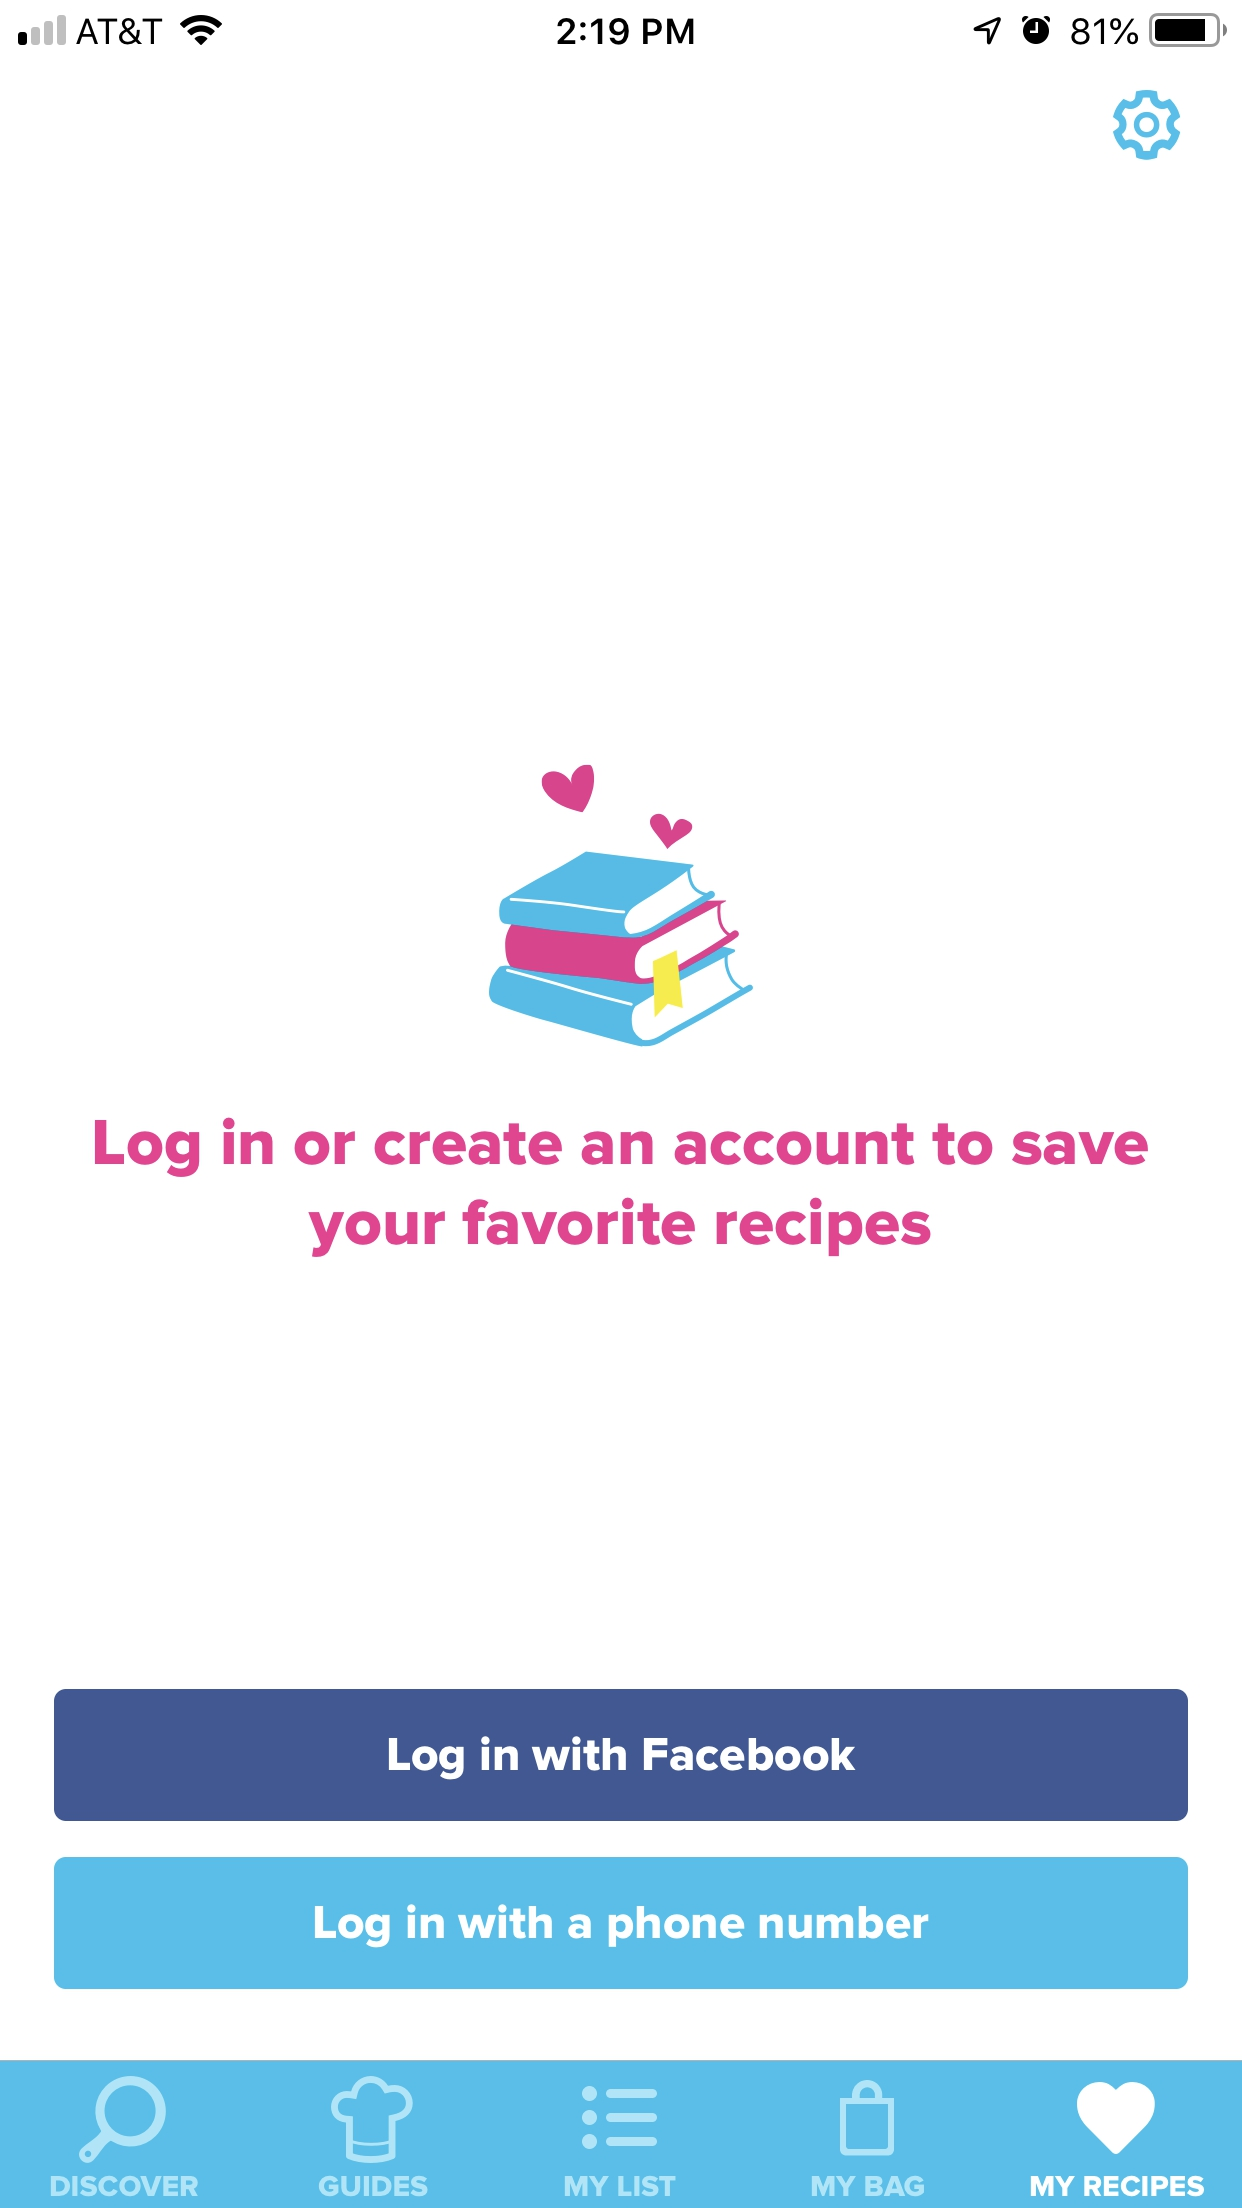Icon: (79, 2075, 168, 2164), (1077, 2081, 1156, 2155), (581, 2085, 658, 2150), (1112, 89, 1181, 161), (839, 2079, 895, 2156)
Image: (488, 764, 755, 1048), (331, 2075, 414, 2164)
Text: (96, 1118, 1149, 1259), (1030, 2175, 1206, 2197), (52, 2175, 197, 2196), (811, 2175, 925, 2197), (564, 2175, 676, 2197), (318, 2175, 429, 2197)
TextButton: (55, 1858, 1189, 1990), (55, 1689, 1189, 1821)
UpperTaskBar: (2, 2, 1242, 49)
